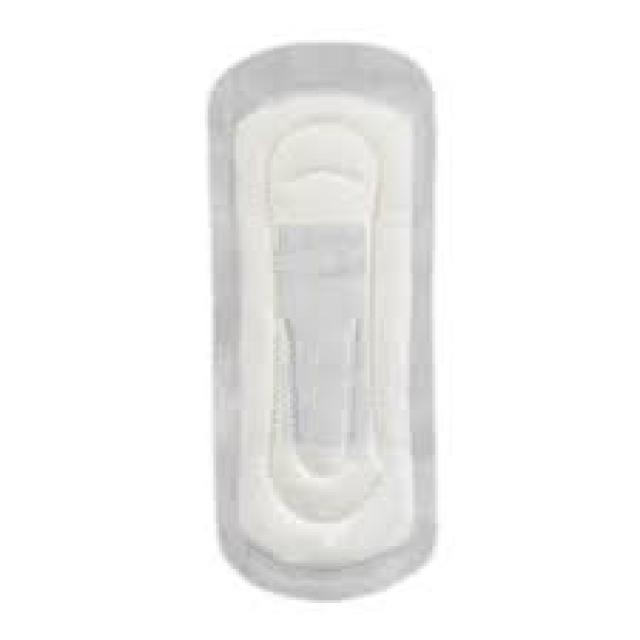napkin: (209, 44, 440, 598)
